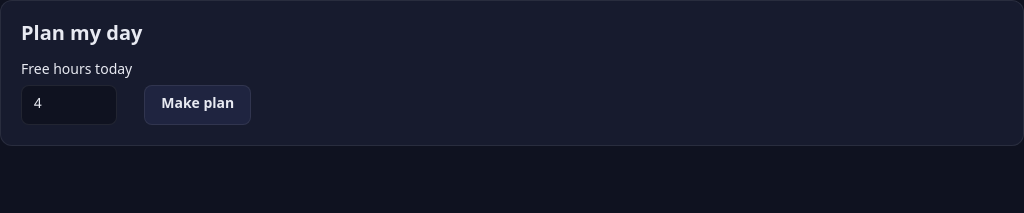
Test case: PlanCard › refuses free hours outside 1 to 16 before calling the service
This screenshot has width=1024, height=213.
Replace the text in the number field labelled "Free hours today" with "20" at (69,105), box [21,85,117,125]
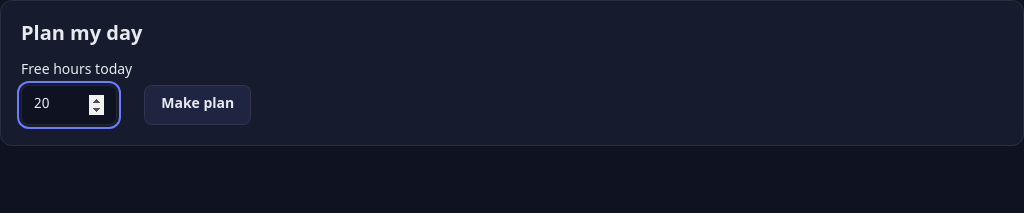
Click the button "Make plan" at (198,105), box [144,85,251,125]
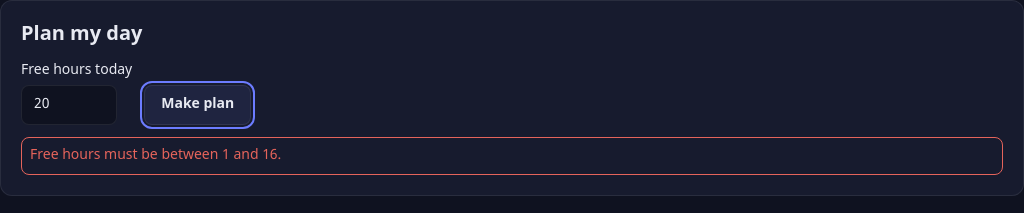
Check: the message shows "between 1 and 16", box [30,146,281,165]
